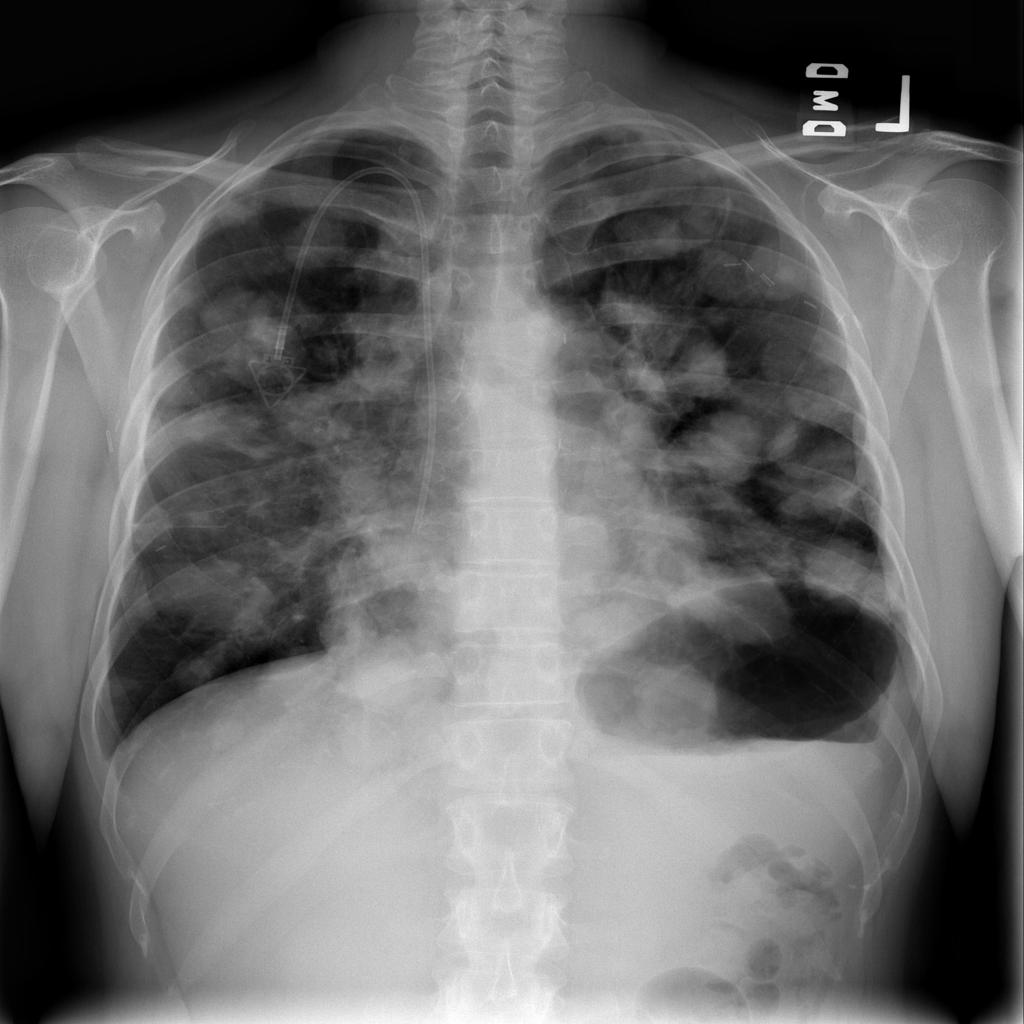nodule: (148, 541, 297, 650), (192, 278, 324, 398), (320, 625, 456, 727), (762, 429, 892, 529), (785, 523, 883, 632), (271, 208, 361, 277), (566, 593, 656, 661), (682, 408, 764, 482), (589, 269, 673, 340), (785, 359, 870, 428), (607, 201, 696, 264), (742, 237, 819, 308), (687, 238, 764, 307), (748, 325, 828, 389), (672, 328, 744, 399), (156, 640, 238, 700), (190, 703, 264, 767), (689, 286, 746, 334), (94, 668, 148, 714)
